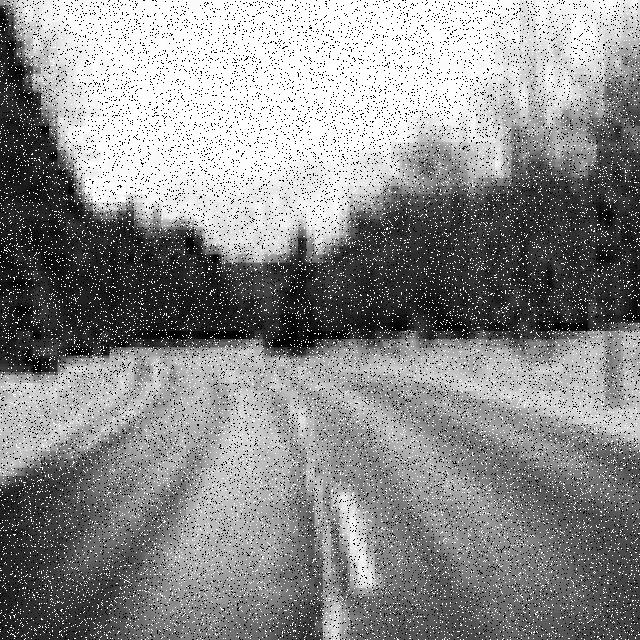clear-road: (0, 352, 640, 640)
